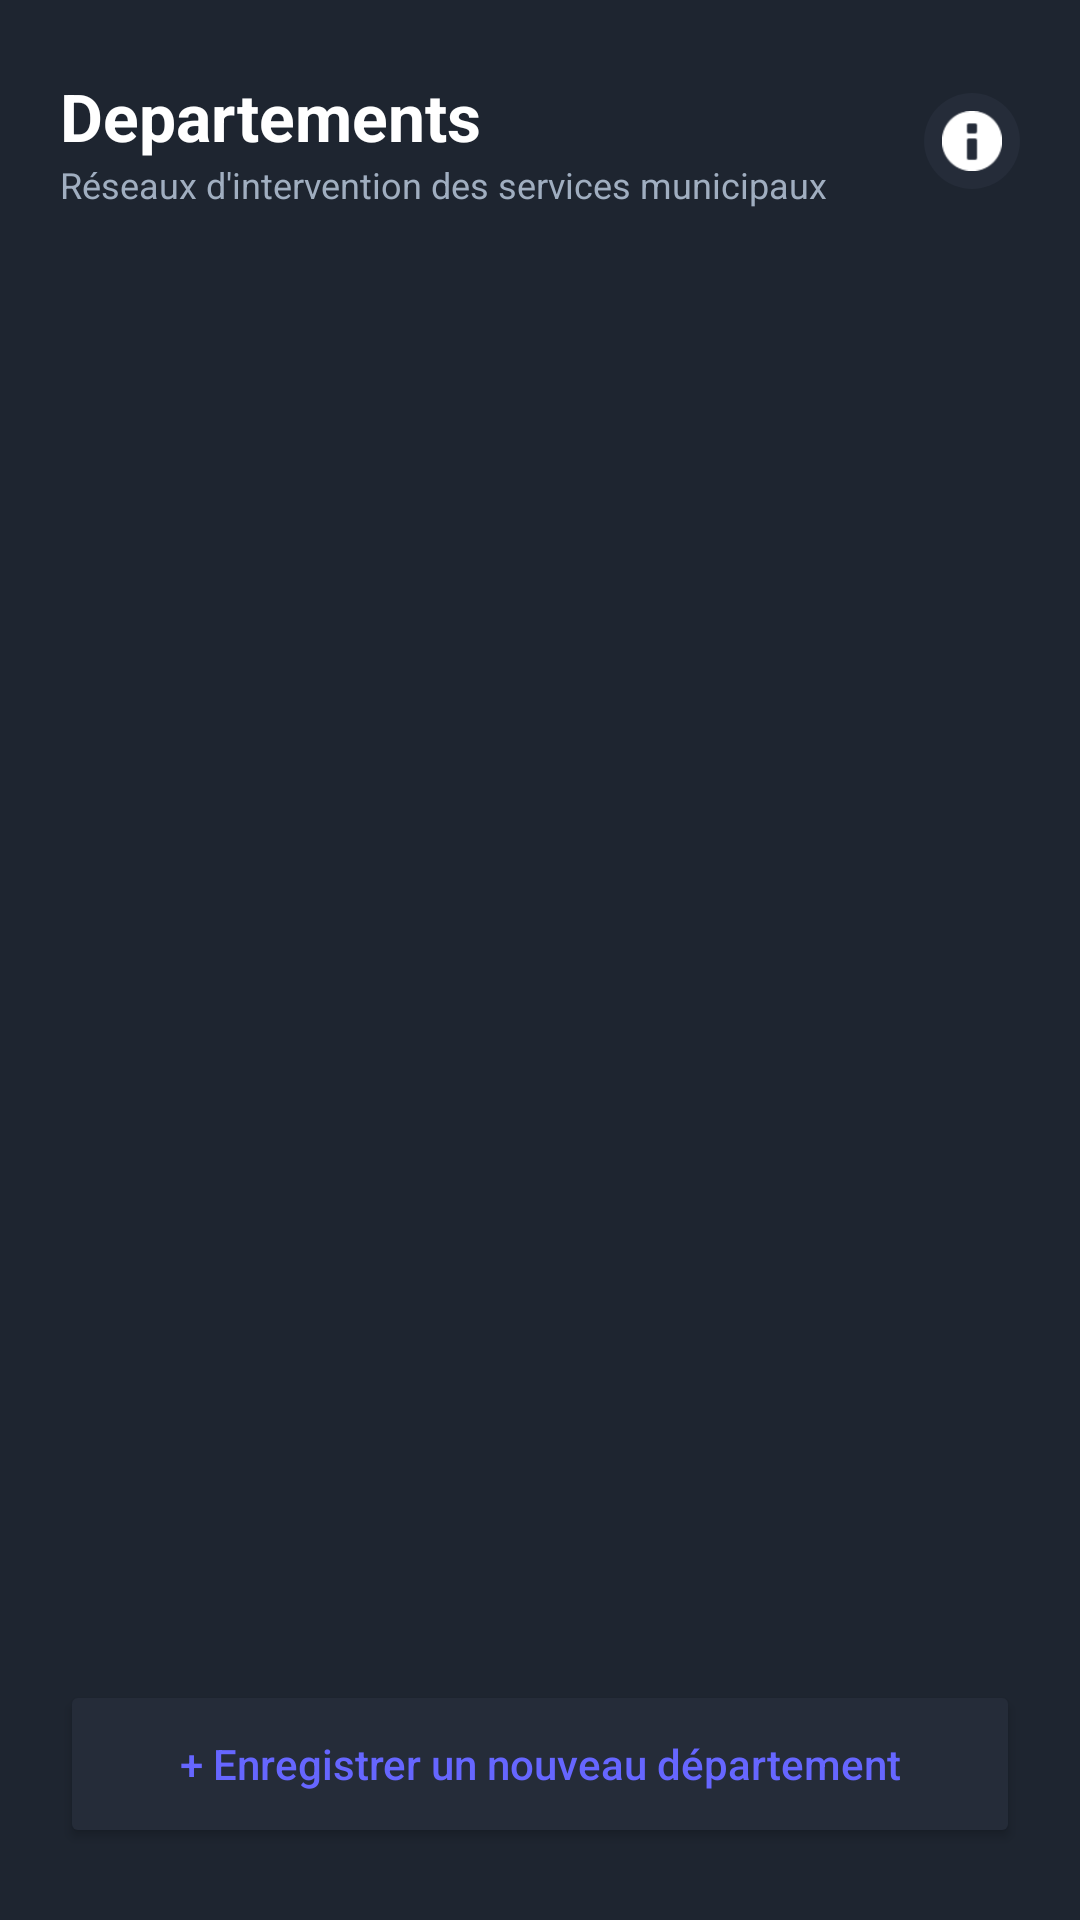

Named icons in this screenshot (1080*1920) and their bounding boxes, (x1, y1, x2, y2):
info: (942, 111, 1002, 171)
